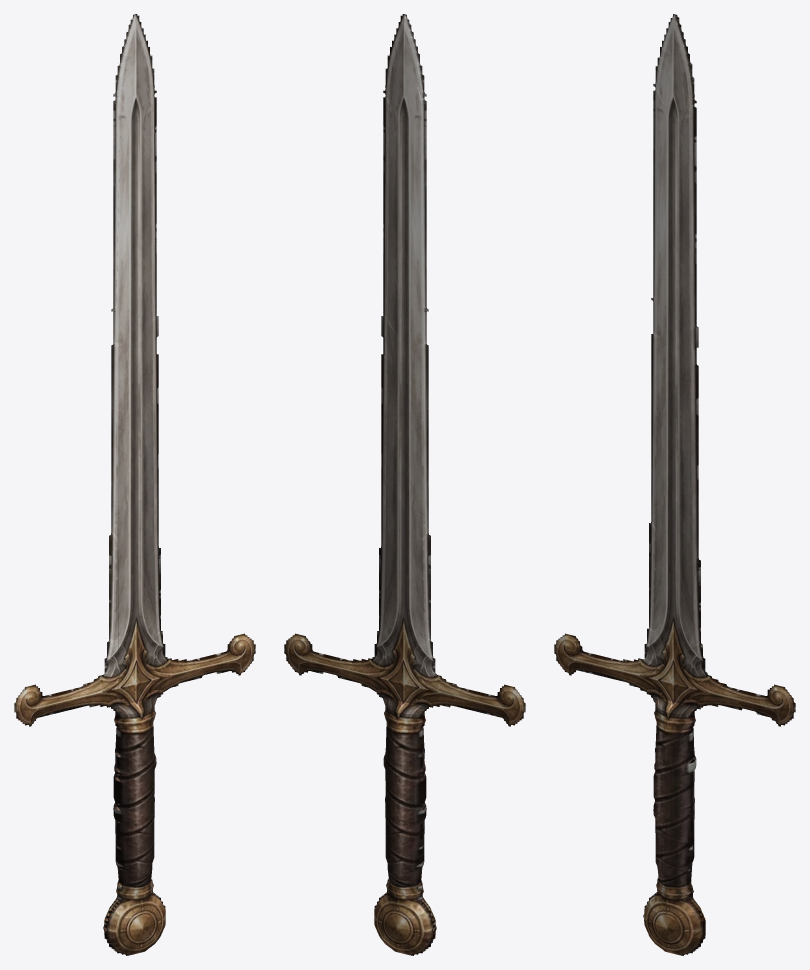
Rendered from w_sword.glb.
The picture shows the model from 3 angles, left to right: view 1: azimuth 30°, elevation 25°; view 2: azimuth 150°, elevation 25°; view 3: azimuth 330°, elevation 25°; orthographic projection.
Visible parts, largest first — view 1: Sword; view 2: Sword; view 3: Sword.
Boxes of the visible parts, left/top/right/bottom form: Sword: left=14, top=14, right=255, bottom=955; Sword: left=284, top=14, right=525, bottom=955; Sword: left=554, top=14, right=795, bottom=955.
Size of the model in its own units: 0.269 by 0.9994 by 0.0392.
Materials: 1 (1 with a texture image).
